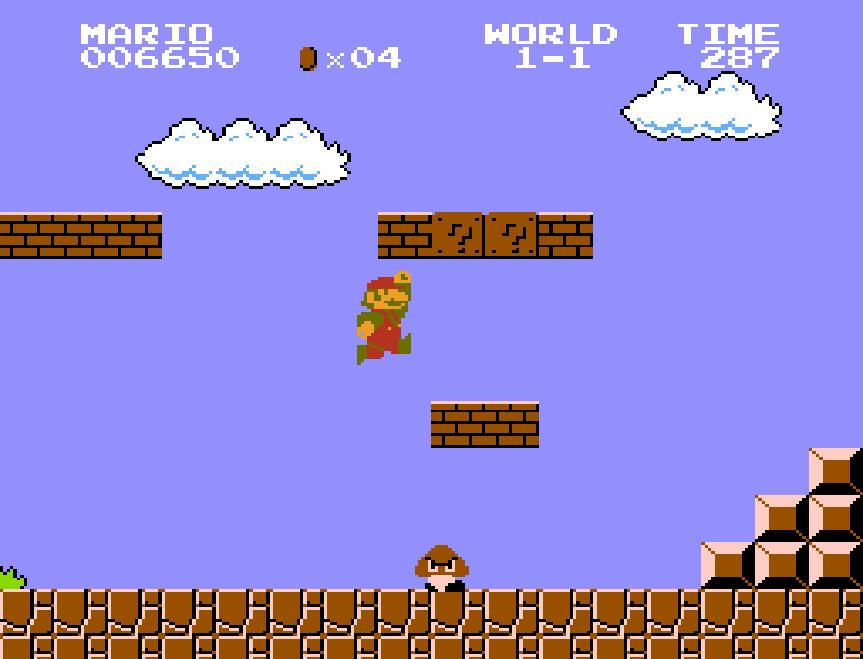big_mario: (355, 268, 413, 367)
